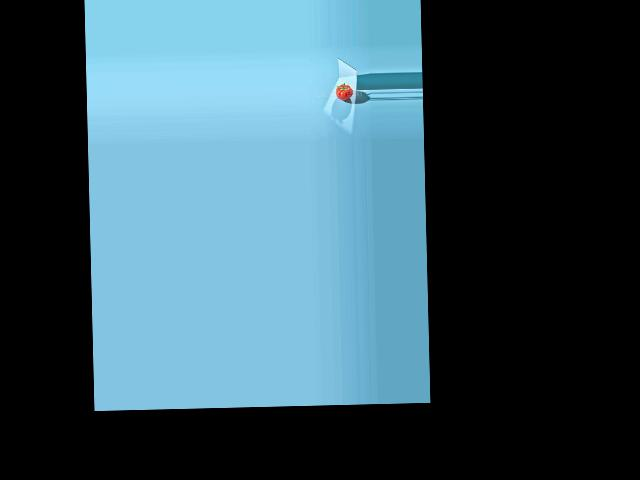tomato: (335, 84, 353, 100)
